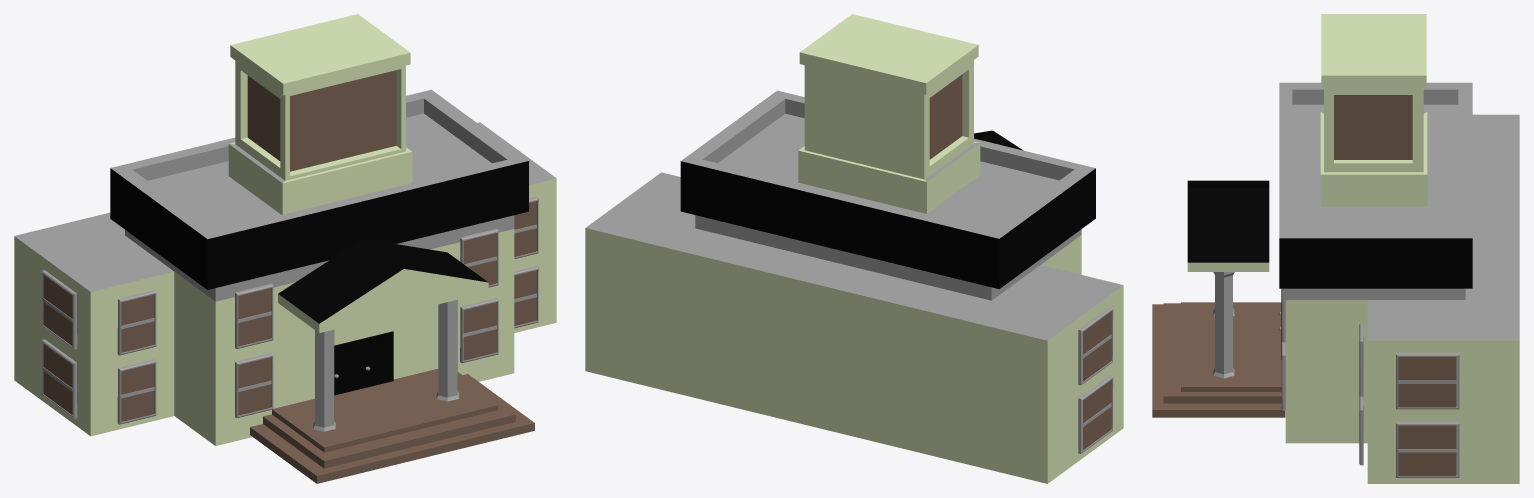
The model's file is Office.fbx.
The picture shows the model from 3 angles, left to right: view 1: azimuth 30°, elevation 25°; view 2: azimuth 150°, elevation 25°; view 3: azimuth 270°, elevation 25°; orthographic projection.
Parts seen in each view (by area): view 1: pCube124, pCube126, pCube125, polySurface529, polySurface528, polySurface531, polySurface525, polySurface530, polySurface534, polySurface535, pCylinder51, pCylinder50 (+5 smaller); view 2: pCube124, polySurface535, polySurface534; view 3: pCube124, pCube126, pCube125, polySurface533, polySurface532, pCylinder50.
Part boxes in pixels (box(x1,y1,x2,y2)): pCube124: box(14, 14, 556, 445); pCube126: box(250, 369, 534, 483); pCube125: box(278, 238, 488, 332); polySurface529: box(117, 290, 156, 355); polySurface528: box(117, 359, 156, 424); polySurface531: box(235, 352, 273, 418); polySurface525: box(460, 298, 498, 363); polySurface530: box(235, 283, 273, 348); polySurface534: box(42, 270, 77, 349); polySurface535: box(42, 339, 77, 418); pCylinder51: box(313, 329, 335, 431); pCylinder50: box(436, 299, 459, 401); pCube124: box(585, 14, 1123, 483); polySurface535: box(1078, 375, 1113, 453); polySurface534: box(1078, 306, 1113, 385); pCube124: box(1279, 14, 1519, 483); pCube126: box(1152, 302, 1285, 417); pCube125: box(1187, 180, 1269, 271); polySurface533: box(1396, 421, 1459, 477); polySurface532: box(1396, 353, 1459, 409); pCylinder50: box(1213, 272, 1234, 378).
Size of the model in its own units: 192 by 127 by 130.
